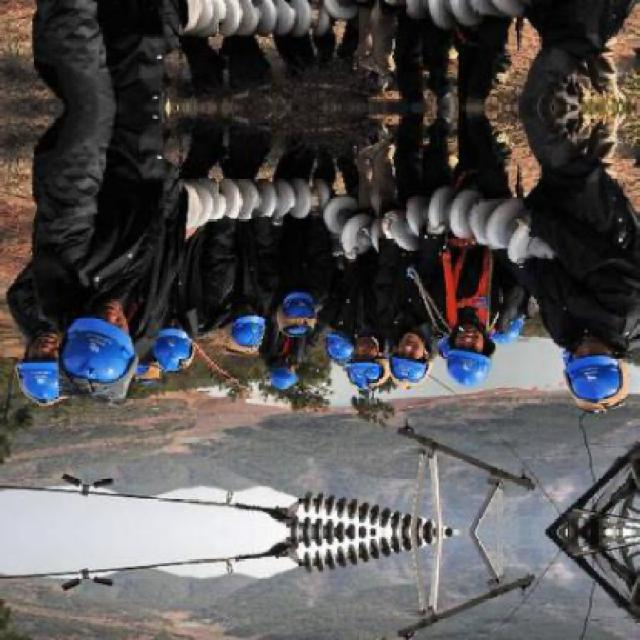con casco: (80, 259, 216, 378), (37, 280, 155, 393), (542, 300, 640, 410), (411, 296, 524, 390), (224, 301, 330, 370), (14, 330, 86, 411), (368, 312, 443, 386), (320, 329, 388, 393), (270, 282, 340, 336)
